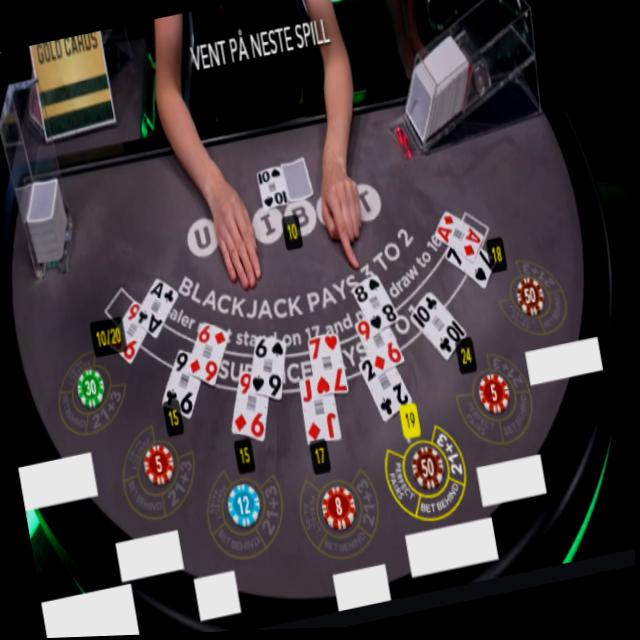Card-10: (410, 293, 466, 367), (255, 167, 289, 211)
Card-2: (357, 359, 412, 425)
Card-6: (190, 321, 228, 388), (252, 338, 286, 402)
Card-7: (307, 335, 348, 394), (446, 251, 496, 292)
Card-8: (351, 276, 399, 333)
Card-9: (162, 349, 200, 422), (354, 319, 403, 374), (109, 297, 146, 368), (231, 375, 270, 441)
Card-A: (435, 213, 483, 267), (138, 276, 176, 340)
Card-J: (298, 379, 341, 446)
